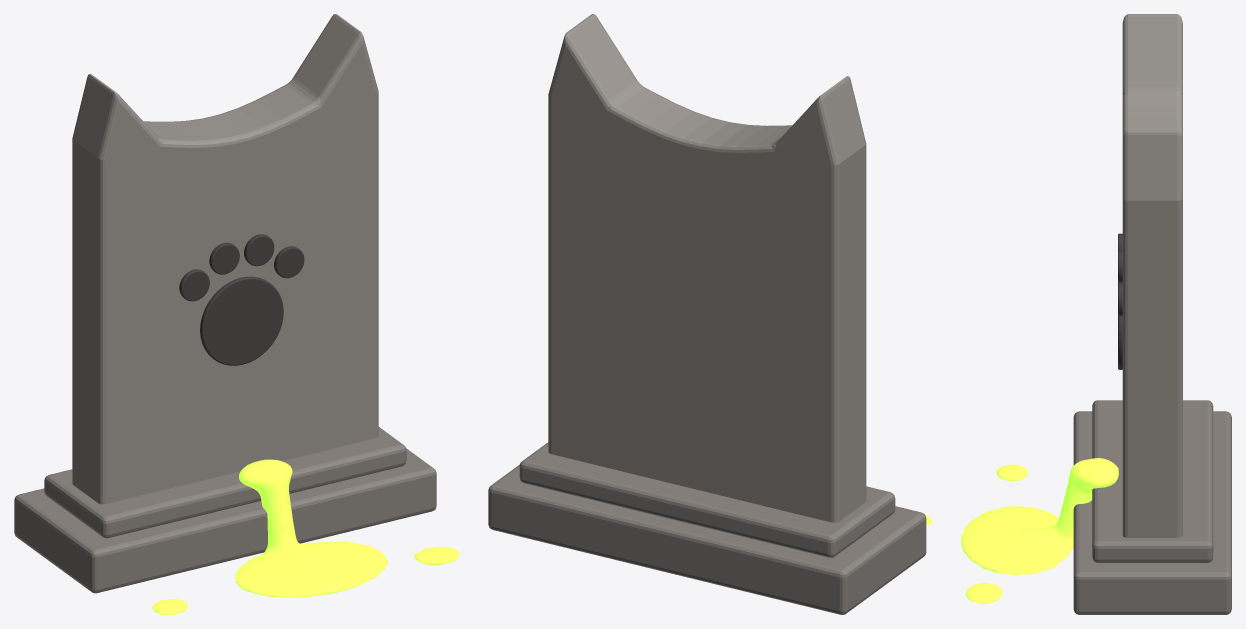
Rendered from zc_tombstone_cat.godot.glb.
3 renders of one model, left to right at view 1: azimuth 30°, elevation 25°; view 2: azimuth 150°, elevation 25°; view 3: azimuth 270°, elevation 25°, orthographic. The views are drawn at different scales.
Visible parts, largest first — view 1: zc_tombstone_cat, blob1; view 2: zc_tombstone_cat; view 3: zc_tombstone_cat, blob1.
Boxes of the visible parts, <box> form: zc_tombstone_cat: <box>14,14,436,593</box>; blob1: <box>152,459,459,614</box>; zc_tombstone_cat: <box>488,14,926,614</box>; zc_tombstone_cat: <box>1073,14,1231,614</box>; blob1: <box>961,458,1118,603</box>.
Size of what is drawn, in the model's own units: 0.84 by 1.11 by 0.5819.
1 material, 1 textured.
